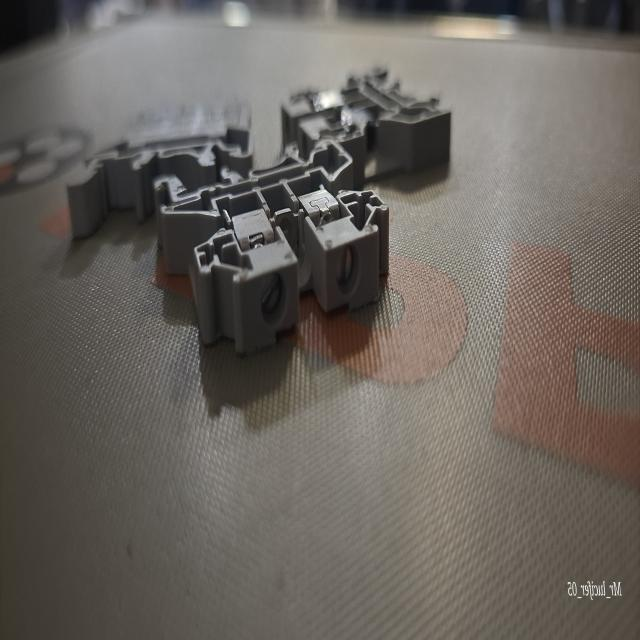Pass: (150, 109, 401, 404)
